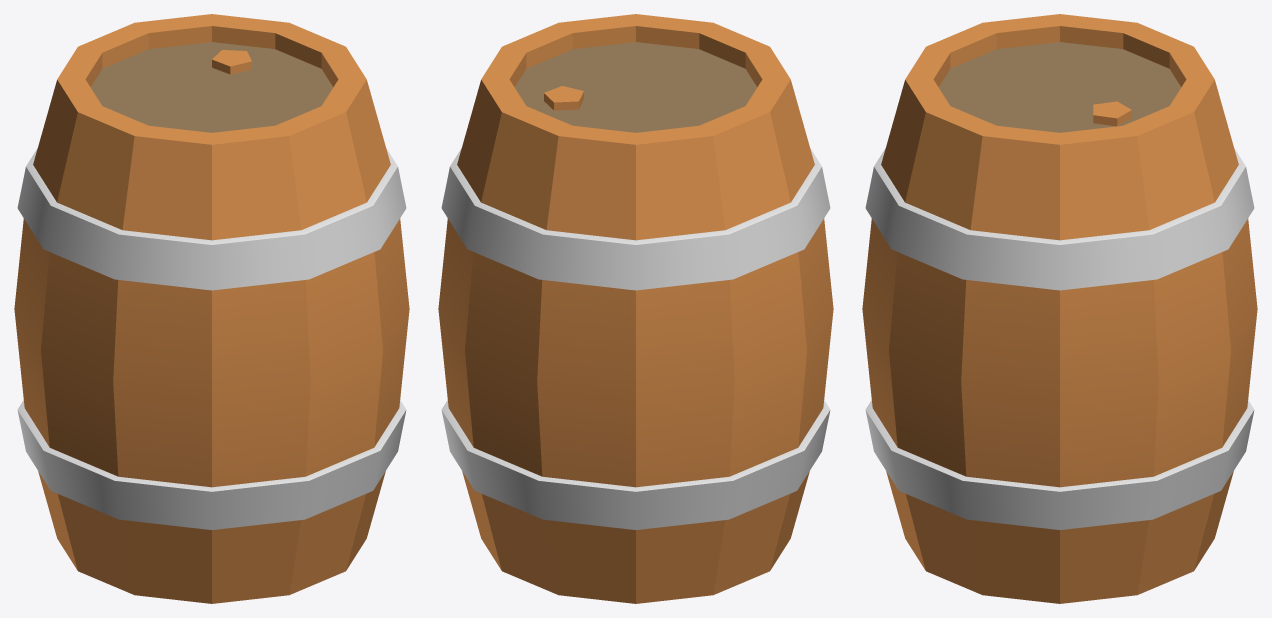
The model's file is Barrel.fbx.
3 views of the same model, side by side, from view 1: azimuth 30°, elevation 25°; view 2: azimuth 150°, elevation 25°; view 3: azimuth 270°, elevation 25° (orthographic).
Parts seen in each view (by area): view 1: Barrel; view 2: Barrel; view 3: Barrel.
Boxes of the visible parts, x1=… form: Barrel: x1=14, y1=14, x2=409, y2=603; Barrel: x1=438, y1=14, x2=833, y2=603; Barrel: x1=862, y1=14, x2=1257, y2=603.
Bounding box in the file's own units: 321 × 321 × 412.
